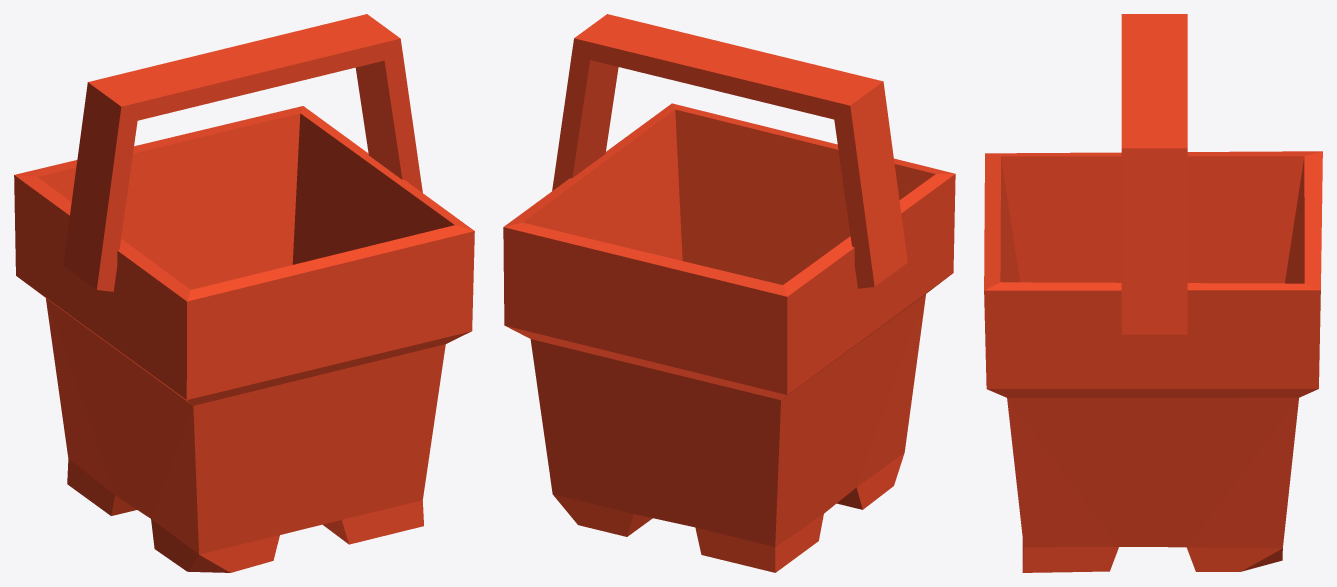
Rendered from SM_Form_Toy_A_City.fbx.
3 renders of one model, left to right at view 1: azimuth 30°, elevation 25°; view 2: azimuth 150°, elevation 25°; view 3: azimuth 270°, elevation 25°, orthographic.
Parts seen in each view (by area): view 1: SM_Form_Toy_A_City; view 2: SM_Form_Toy_A_City; view 3: SM_Form_Toy_A_City.
Boxes of the visible parts, x1,y1,x2,y2 form: SM_Form_Toy_A_City: [14, 14, 474, 572]; SM_Form_Toy_A_City: [503, 14, 955, 572]; SM_Form_Toy_A_City: [984, 14, 1322, 572].
Size of the model in its own units: 0.2139 by 0.2766 by 0.1941.
